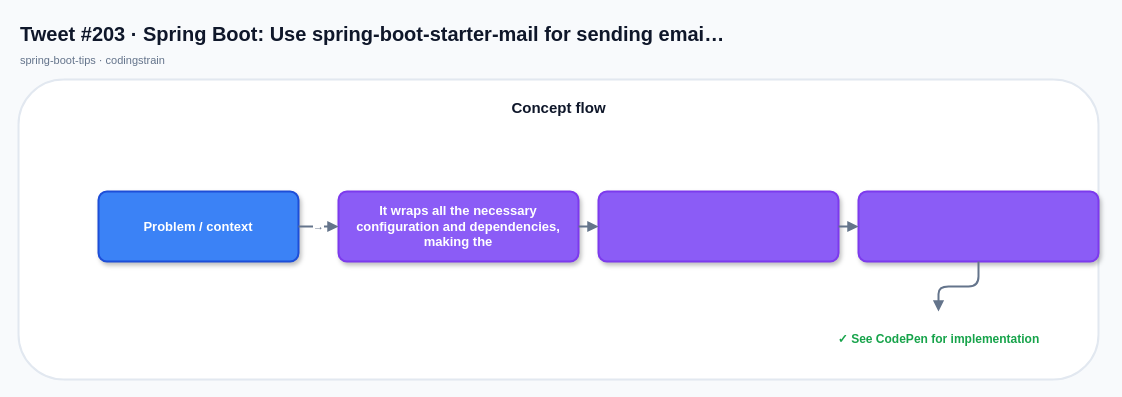
Some shapes in this 1122 by 397 pixel diagram are drawn without their labels. The centre of each missing label's shape, as x and y in pixels:
#SpringBoot: [719,227]
Runnable sample: `spring-boot-tips`: [979,227]
